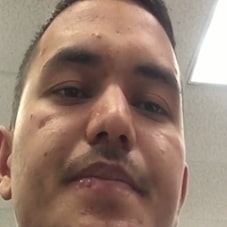drowsy: (40, 43, 184, 227)
